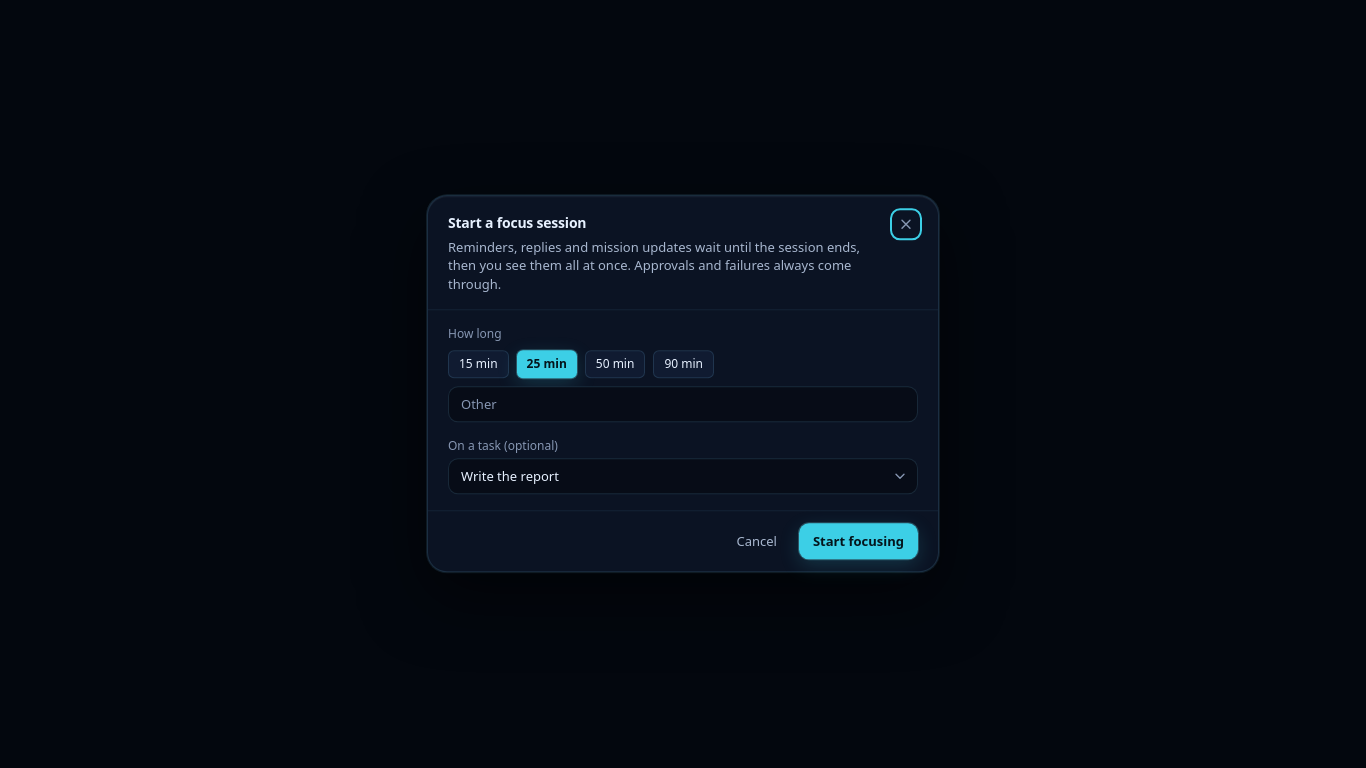
Test: Focus Mode › starts a session of the chosen length, on a task, and refuses lengths out of range
Later steps or results of the test are not shown.
Check: the heading "Start a focus session" is shown, box [448,213,586,232]
Click the button "50 min" at [615, 365], box [585,351,645,379]
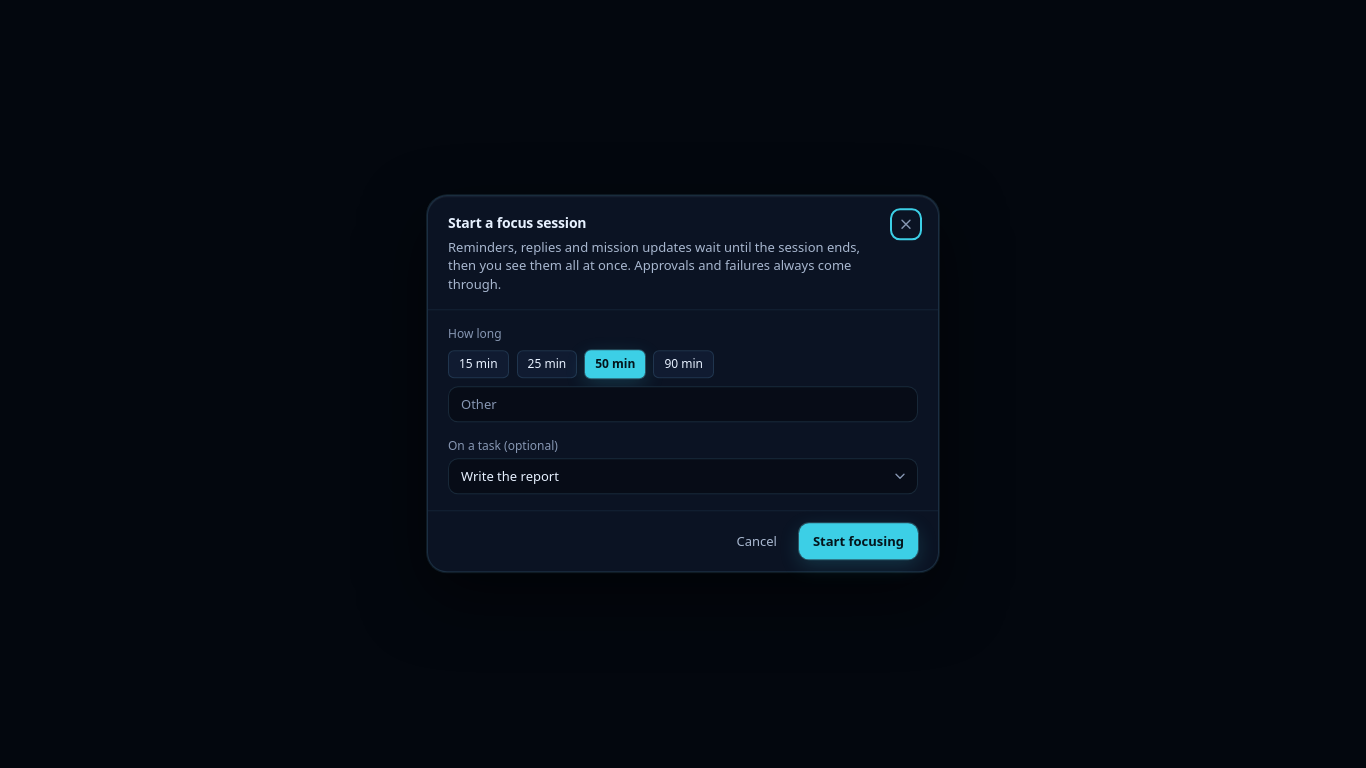
Type "3" into the number field named "Other length in minutes" at [683, 405], box [448,387,918,423]
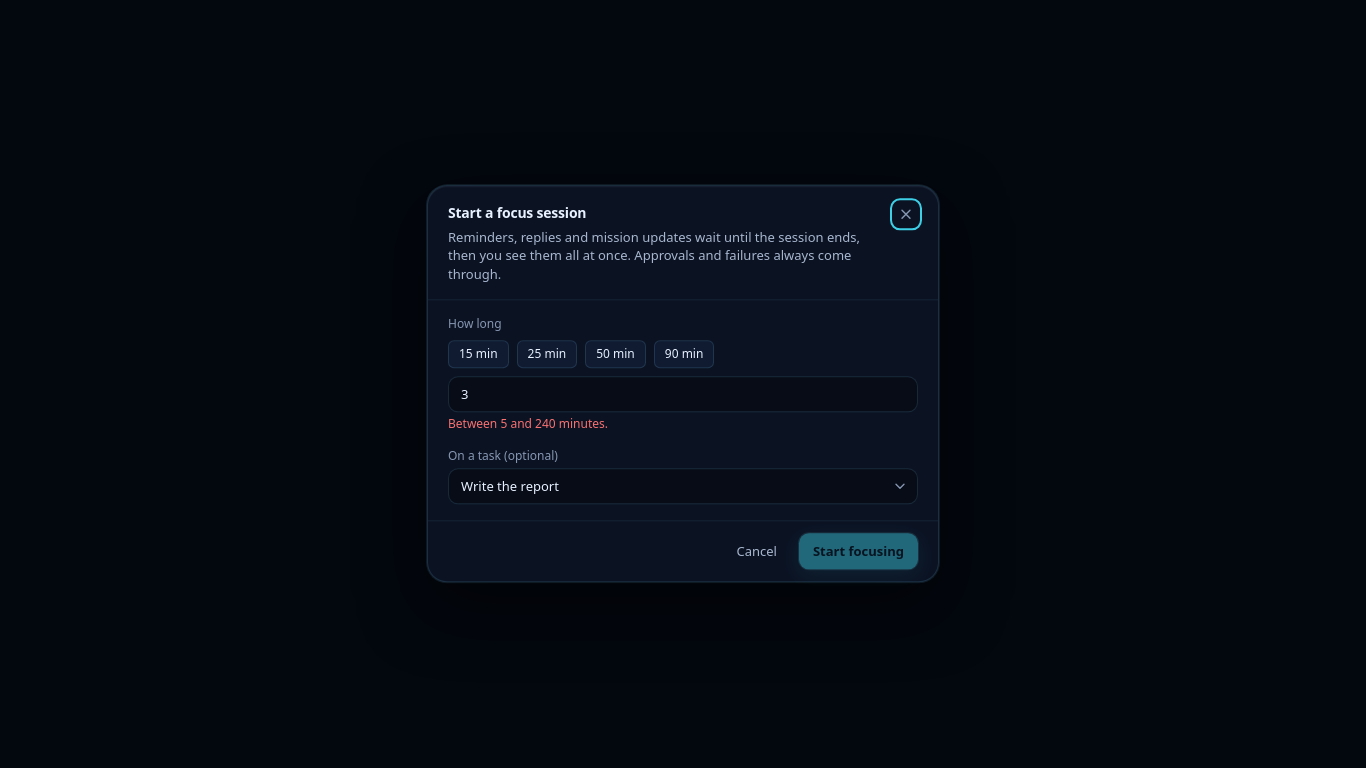
Check: the text "Between 5 and 240 minutes." is shown, box [448,416,608,433]
Check: the button "Start focusing" is disabled, box [799,534,918,570]
